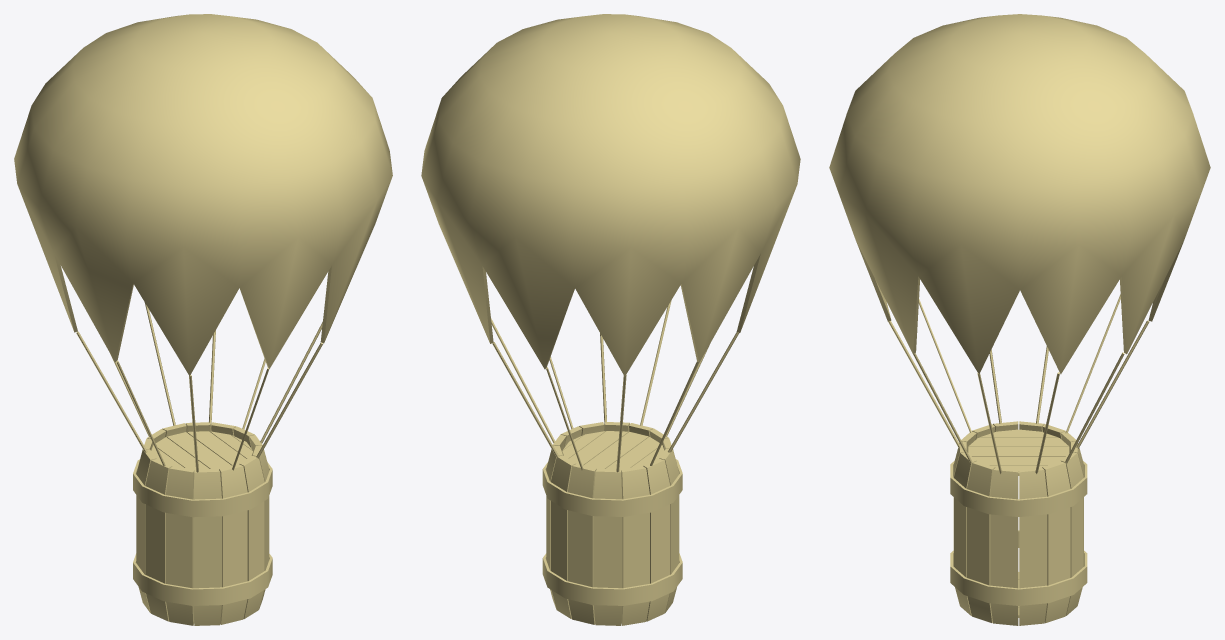
Rendered from m_BarrelParaChute 1.FBX.
3 renders of one model, left to right at view 1: azimuth 30°, elevation 25°; view 2: azimuth 150°, elevation 25°; view 3: azimuth 270°, elevation 25°, orthographic.
Parts seen in each view (by area): view 1: Chote001, Plank026, Plank015, Plank021, Dummy003, Ring003, Ring004, Plank028, Plank022, Plank020, Plank023; view 2: Chote001, Plank018, Plank027, Plank017, Dummy003, Ring003, Ring004, Plank020, Plank016, Plank028, Plank019; view 3: Chote001, Plank024, Plank025, Dummy003, Plank023, Plank019, Ring004, Ring003, Plank016, Plank022.
Part boxes in pixels (x1,y1,x2,y2): Chote001: [14, 14, 392, 472]; Plank026: [193, 469, 221, 625]; Plank015: [165, 466, 194, 625]; Plank021: [219, 464, 247, 624]; Dummy003: [151, 431, 253, 471]; Ring003: [133, 459, 272, 517]; Ring004: [133, 553, 272, 605]; Plank028: [145, 459, 172, 621]; Plank022: [239, 456, 264, 618]; Plank020: [136, 449, 156, 613]; Plank023: [252, 445, 269, 609]; Chote001: [421, 14, 800, 472]; Plank018: [593, 468, 622, 625]; Plank027: [621, 466, 649, 625]; Plank017: [567, 464, 596, 624]; Dummy003: [562, 431, 664, 471]; Ring003: [542, 459, 682, 516]; Ring004: [542, 553, 682, 605]; Plank020: [643, 458, 670, 621]; Plank016: [551, 455, 575, 618]; Plank028: [659, 449, 679, 612]; Plank019: [546, 445, 562, 609]; Chote001: [829, 14, 1210, 473]; Plank024: [990, 467, 1018, 625]; Plank025: [1019, 467, 1047, 625]; Dummy003: [968, 429, 1069, 617]; Plank023: [967, 461, 995, 622]; Plank019: [1042, 461, 1070, 623]; Ring004: [950, 530, 1087, 605]; Ring003: [950, 461, 1087, 516]; Plank016: [1061, 452, 1083, 615]; Plank022: [954, 452, 976, 615].
Size of the model in its own units: 46.9 by 76.96 by 46.9.
